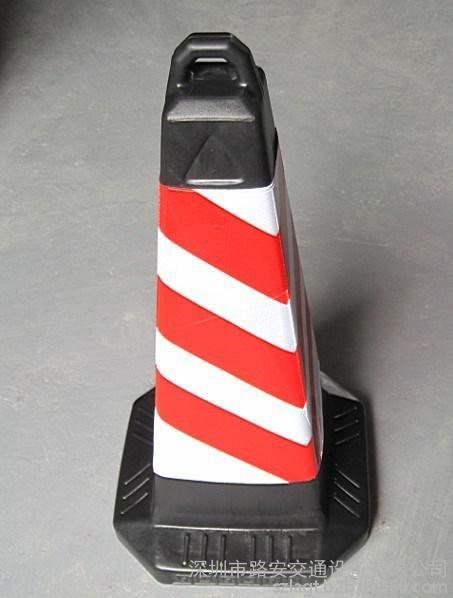cone_barrel: (112, 40, 360, 579)
